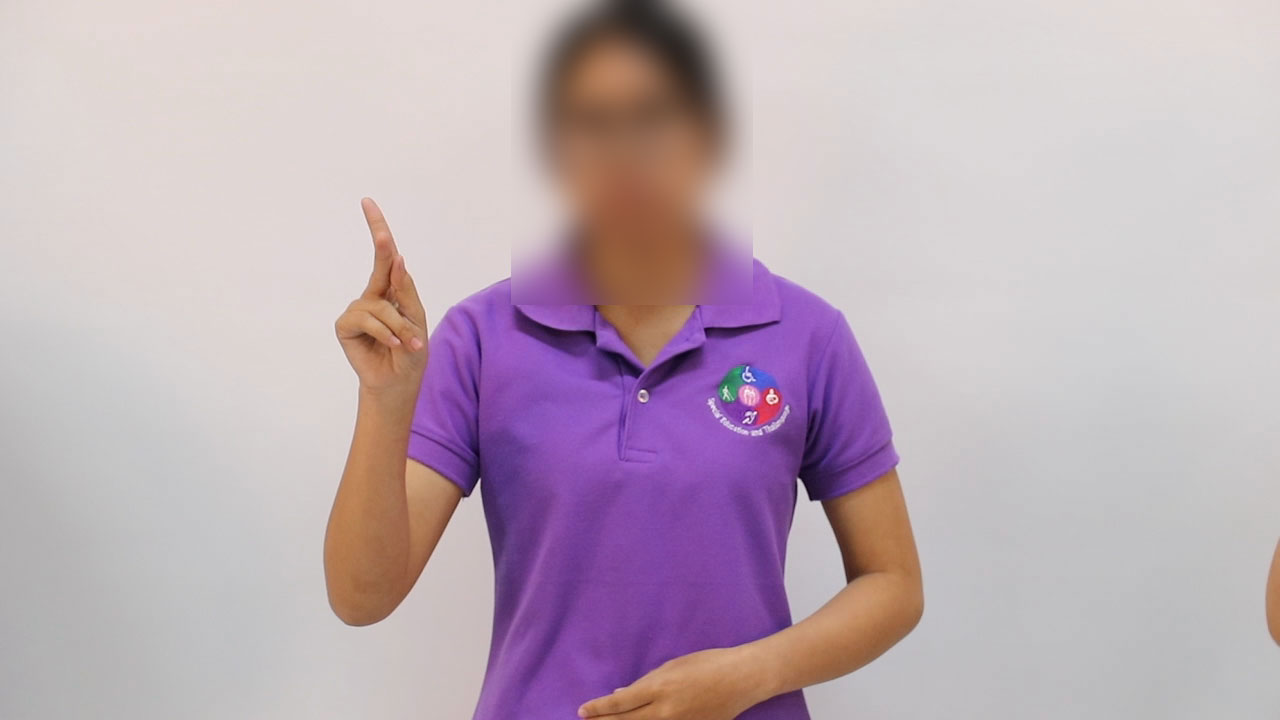ko: (303, 189, 451, 386)
